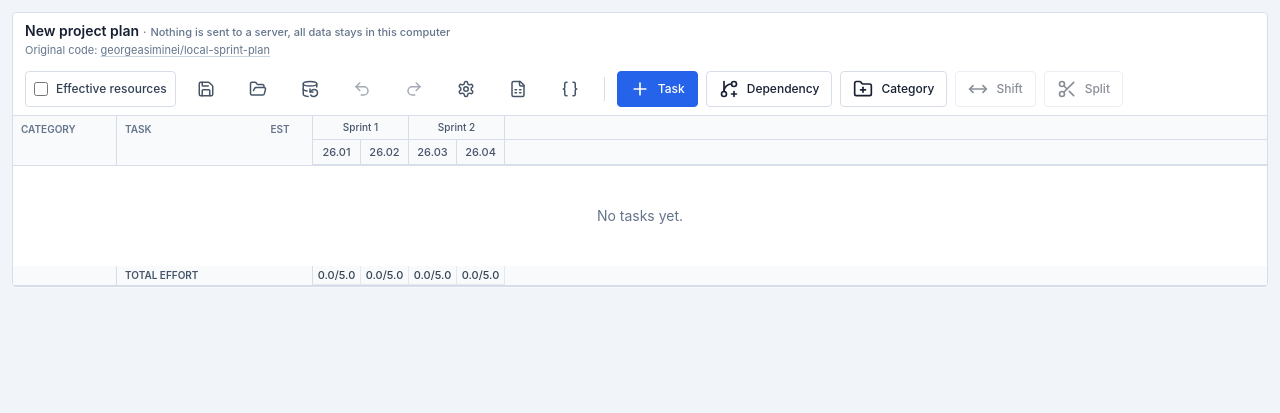
Test case: URL-owned app state › opens dependency panel with external and internal choices
Check: the text "Nothing is sent to a server, all data stays in this computer" is shown, box [150,25,450,39]
Click the button with aria-label "New dependency": (769, 88) [706,70,832,106]
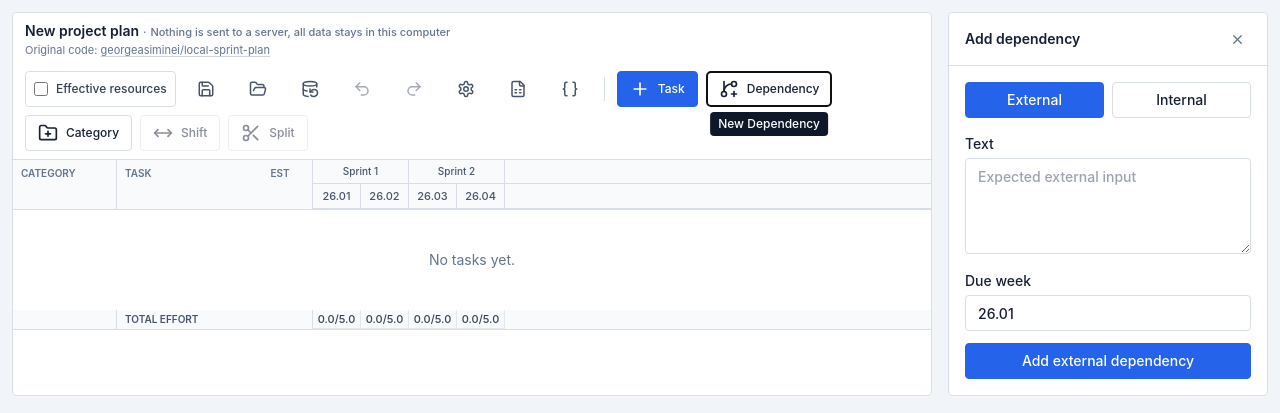
Check: the text "Add dependency" is shown, box [965,29,1080,49]
Check: the button "External" is shown, box [965,82,1104,118]
Check: the button "Internal" is shown, box [1112,82,1251,118]
